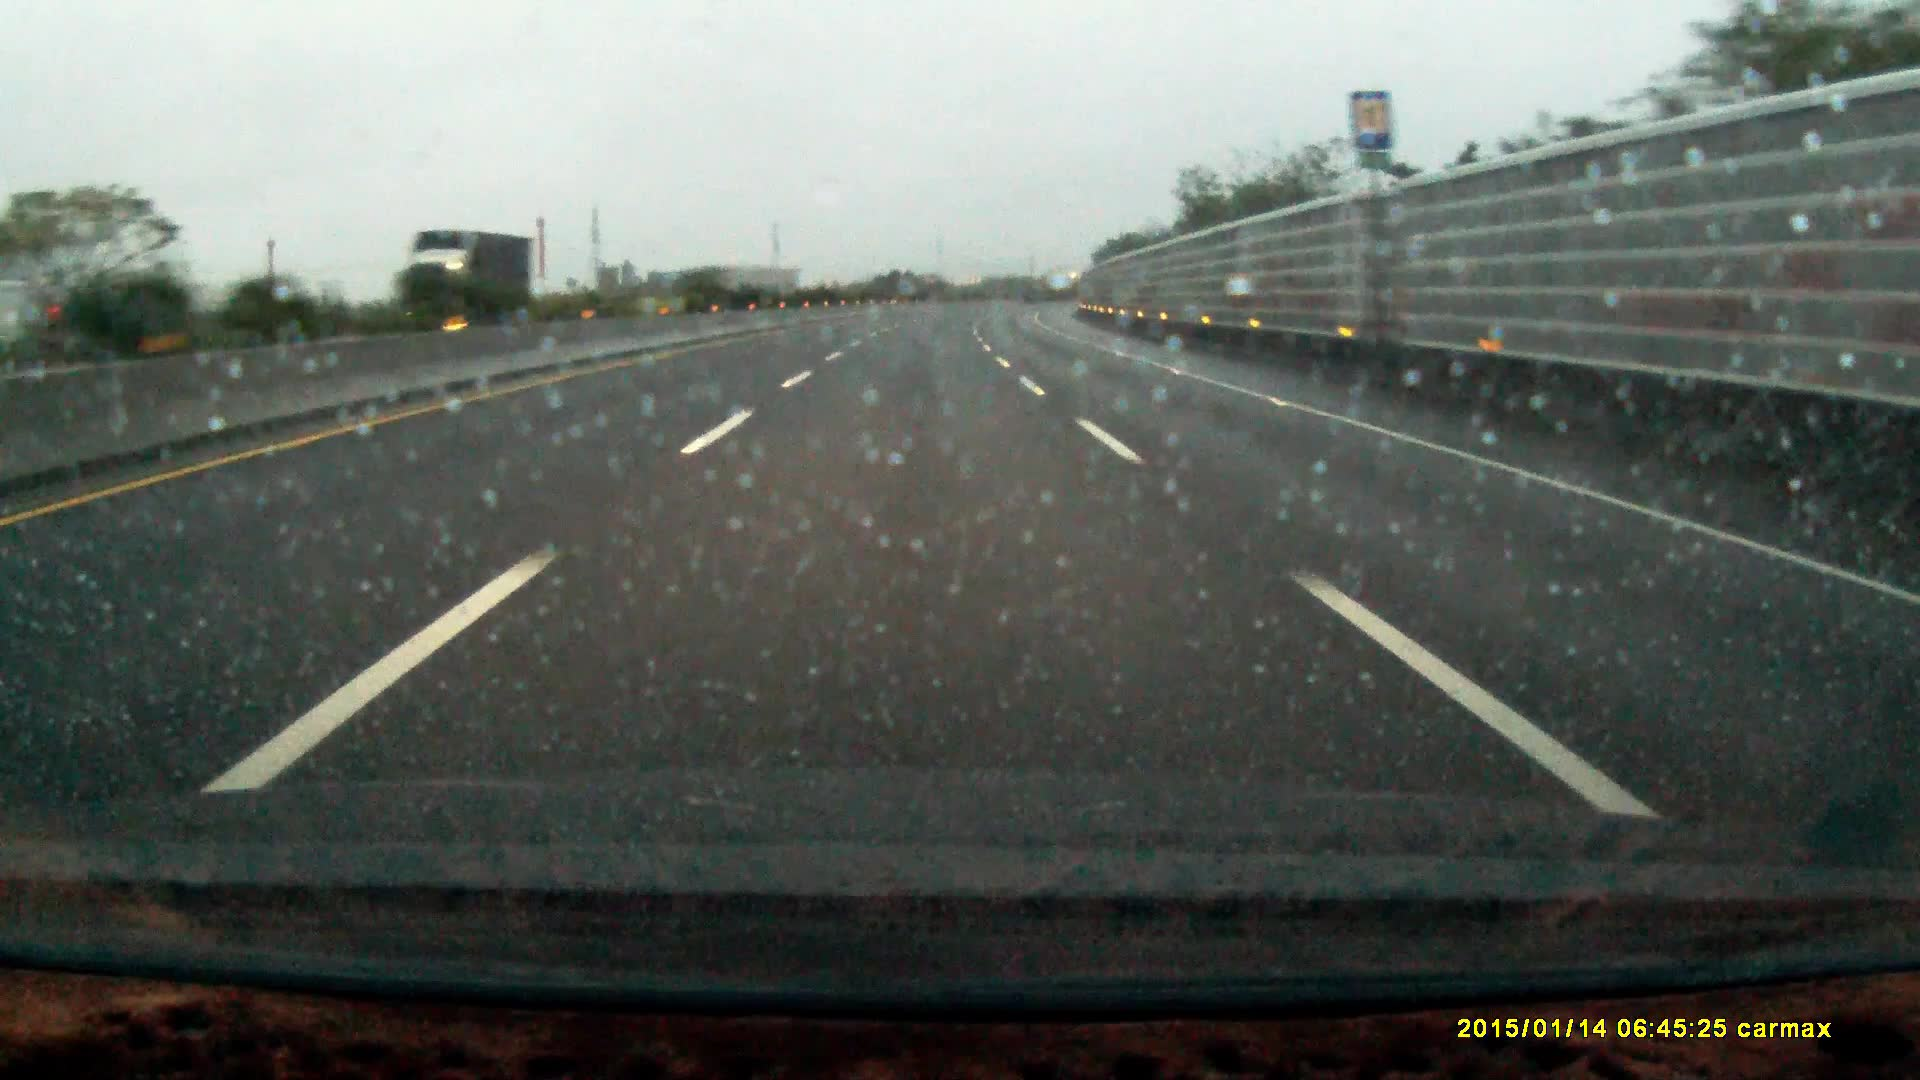vehicle: (396, 228, 538, 331)
